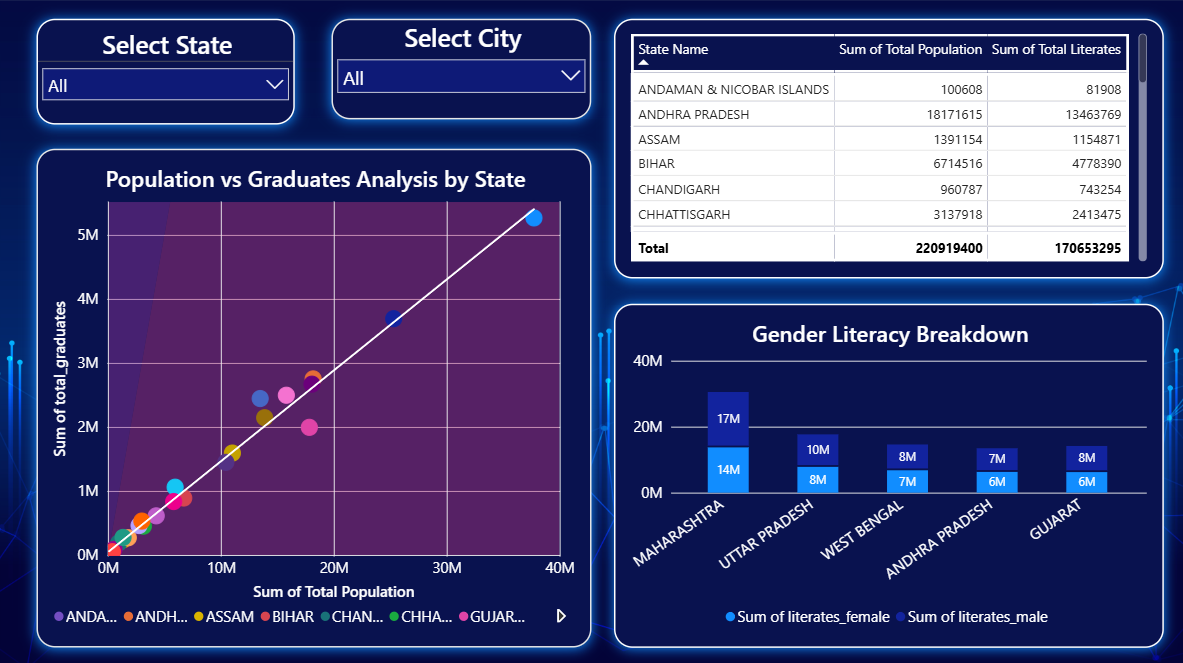

The dashboard page shown, as its layout file describes it:
{"tool":"powerbi","page":{"name":"Page 2","canvas":[1280,720],"ordinal":1},"visuals":[{"type":"tableEx","fields":{"Values":["cities_r2.State Name","Sum(cities_r2.Total Population)","Sum(cities_r2.Total Literates)"]},"box":[664.9,20.3,594.6,281.1],"z":0},{"type":"columnChart","title":"Gender Literacy Breakdown","fields":{"Category":["cities_r2.State Name"],"Y":["Sum(cities_r2.literates_female)","Sum(cities_r2.literates_male)"]},"box":[664.9,328.4,594.6,371.6],"z":1000},{"type":"slicer","title":"Select State","fields":{"Values":["cities_r2.state_name"]},"box":[41.2,20.6,279.4,114.7],"z":1001},{"type":"slicer","title":"Select City","fields":{"Values":["cities_r2.name_of_city"]},"box":[358.8,20.6,280.9,108.8],"z":1003},{"type":"scatterChart","title":"Population vs Graduates Analysis by State","fields":{"Series":["cities_r2.State Name"],"X":["Sum(cities_r2.Total Population)"],"Y":["Sum(cities_r2.total_graduates)"]},"box":[40.5,160.8,600,539.2],"z":1004}]}

Visuals, with their boxes in screenshot pixels (x1, y1, x2, y2), scaled from the page's 1280x720 canvas onto the 1183x663 screenshot:
tableEx - cities_r2.State Name x Sum(cities_r2.Total Population): [x1=615, y1=19, x2=1164, y2=278]
"Gender Literacy Breakdown" columnChart: [x1=615, y1=302, x2=1164, y2=645]
"Select State" slicer: [x1=38, y1=19, x2=296, y2=125]
"Select City" slicer: [x1=332, y1=19, x2=591, y2=119]
"Population vs Graduates Analysis by State" scatterChart: [x1=37, y1=148, x2=592, y2=645]
